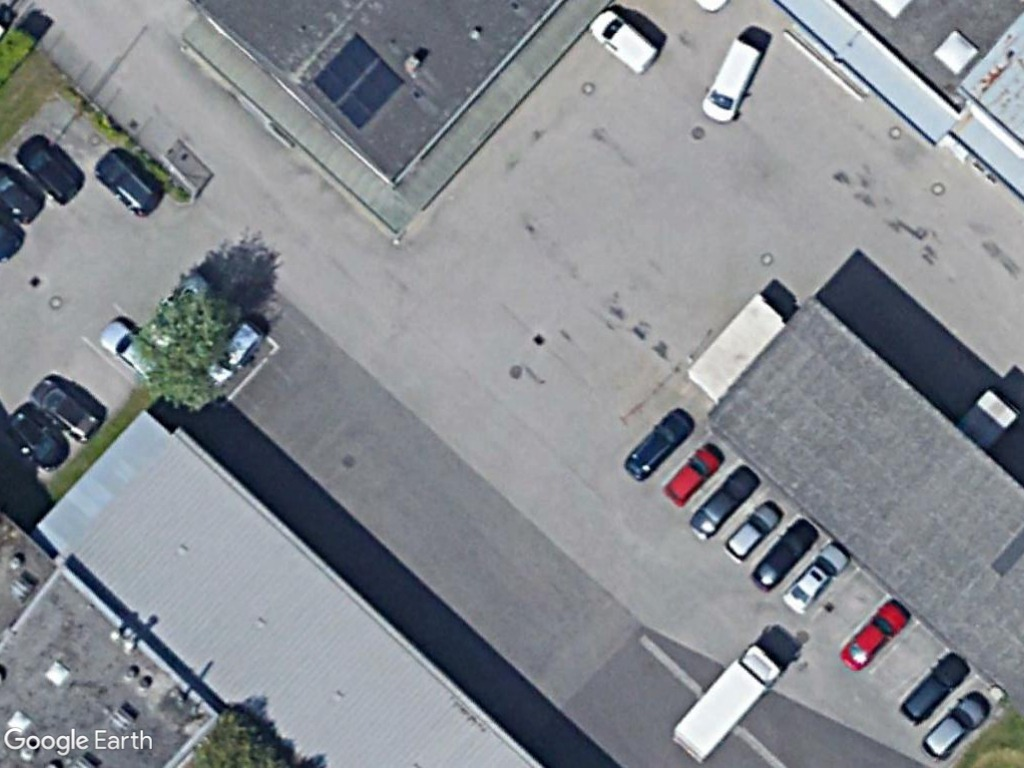car: (896, 647, 973, 729), (620, 402, 696, 483), (685, 464, 760, 544), (777, 540, 852, 617), (836, 599, 910, 676), (26, 374, 103, 443), (750, 516, 819, 593), (918, 691, 990, 763), (9, 136, 84, 204), (90, 152, 163, 217), (8, 398, 67, 476), (659, 444, 721, 509), (721, 498, 782, 564)
truck: (666, 640, 788, 763)
van: (699, 34, 767, 124), (589, 8, 662, 76)
